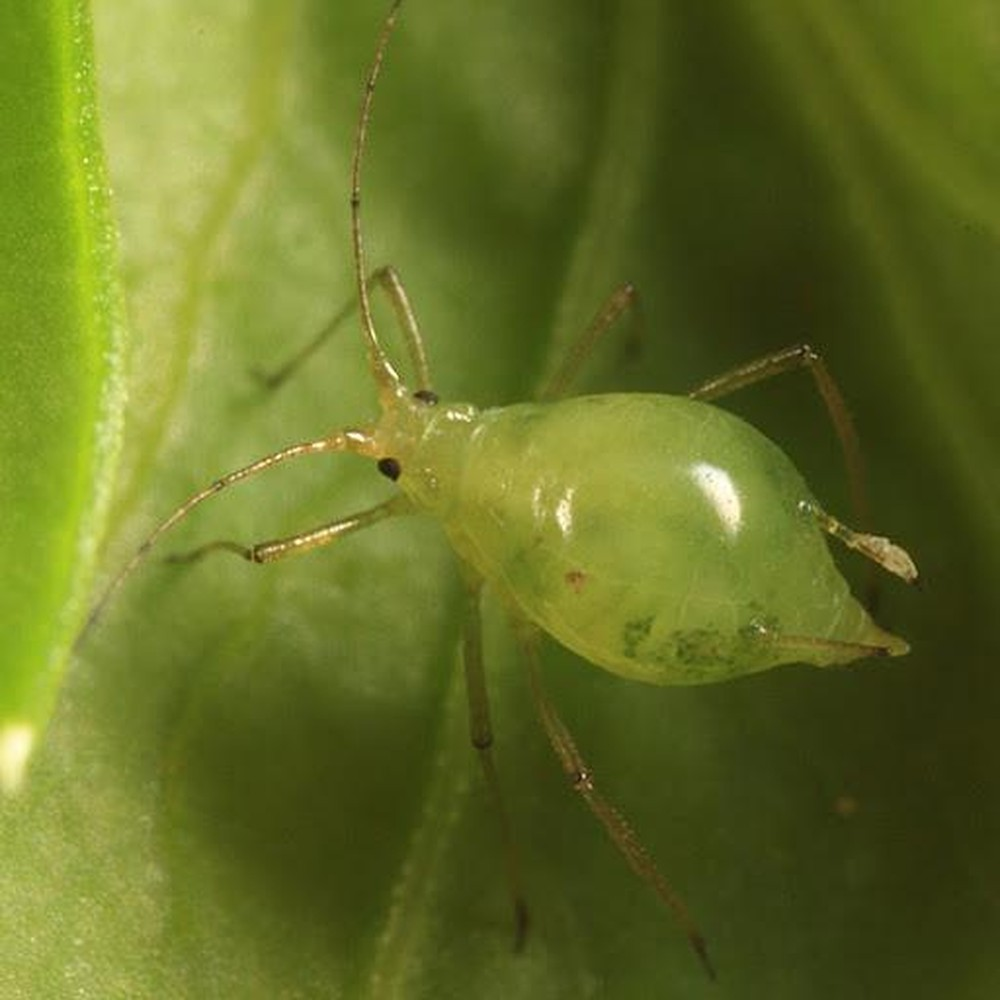Pulgon: (122, 17, 982, 975)
